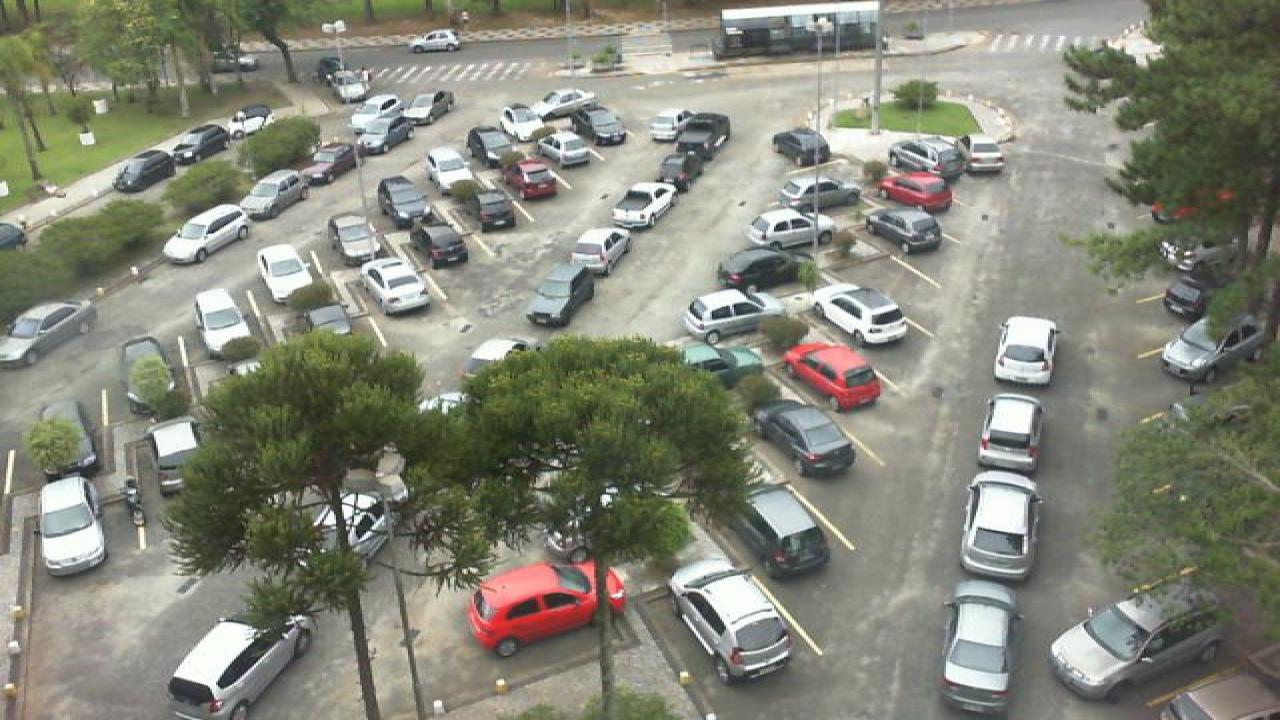Car: (1048, 593, 1224, 702), (662, 555, 798, 685), (166, 609, 316, 719), (464, 556, 626, 650), (940, 575, 1022, 712), (956, 469, 1044, 582), (734, 484, 834, 582), (752, 398, 860, 478), (32, 474, 110, 576), (782, 340, 886, 413), (1160, 318, 1266, 382), (0, 300, 98, 368), (810, 282, 912, 346), (112, 336, 184, 419), (160, 204, 252, 264), (976, 391, 1044, 472), (682, 288, 774, 346), (526, 260, 602, 327), (254, 242, 322, 315), (144, 416, 206, 496), (994, 314, 1062, 386), (194, 284, 258, 360), (718, 246, 810, 294), (864, 207, 946, 258), (362, 257, 432, 316), (680, 340, 764, 389), (1160, 266, 1234, 320), (744, 209, 832, 253), (328, 210, 388, 272), (884, 134, 964, 180), (240, 170, 310, 222), (610, 180, 682, 230), (568, 225, 636, 275), (878, 171, 956, 214), (110, 148, 182, 194), (672, 108, 732, 162), (374, 174, 434, 228), (780, 176, 864, 212), (414, 216, 470, 270), (770, 125, 836, 166), (658, 144, 714, 192), (502, 158, 562, 202), (298, 142, 362, 183), (464, 187, 520, 233), (168, 124, 232, 163), (570, 103, 626, 146), (352, 117, 412, 157), (424, 144, 478, 187), (464, 124, 518, 164), (398, 89, 458, 125), (536, 130, 592, 167), (496, 104, 550, 140), (540, 88, 598, 118), (964, 138, 1008, 176), (224, 104, 276, 136), (348, 92, 400, 122), (646, 108, 686, 144)
